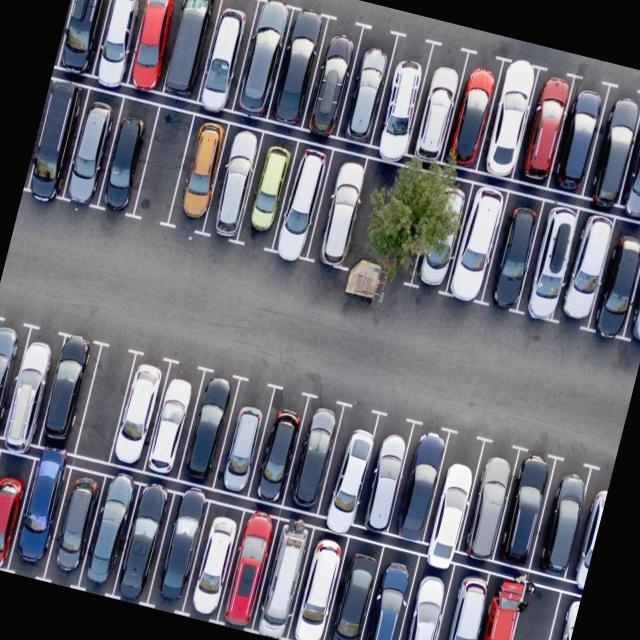car: (444, 179, 512, 305), (516, 196, 584, 321), (405, 170, 472, 296), (480, 188, 548, 312), (22, 75, 90, 199), (110, 478, 176, 604), (476, 54, 542, 180), (306, 148, 372, 274), (456, 438, 524, 560), (492, 447, 559, 570), (386, 420, 453, 543), (250, 516, 316, 640), (268, 138, 334, 262), (146, 488, 212, 612), (58, 84, 124, 208), (6, 455, 72, 579), (528, 456, 594, 579), (165, 111, 232, 232), (94, 94, 160, 216), (181, 498, 247, 620), (34, 333, 100, 455), (76, 472, 140, 596), (554, 206, 618, 330), (514, 64, 578, 188), (548, 74, 612, 198), (41, 466, 106, 588), (216, 508, 281, 630), (202, 120, 266, 242), (353, 411, 417, 533), (105, 351, 170, 471), (140, 360, 204, 480), (212, 377, 276, 497), (247, 386, 311, 506), (266, 7, 329, 128), (230, 0, 294, 119), (176, 368, 239, 488), (0, 326, 60, 452), (319, 404, 383, 522), (286, 525, 351, 640), (284, 394, 346, 514), (372, 34, 434, 154), (302, 16, 364, 136), (237, 130, 299, 249), (408, 42, 470, 161), (444, 50, 506, 168), (193, 0, 259, 110), (336, 27, 398, 144), (583, 81, 640, 207), (320, 533, 386, 640), (425, 432, 482, 554), (355, 541, 423, 640), (158, 0, 222, 103), (588, 214, 640, 338), (124, 0, 188, 94), (392, 549, 457, 640), (565, 464, 612, 584), (88, 0, 154, 85), (428, 560, 496, 640), (53, 0, 118, 76), (0, 445, 37, 570), (466, 572, 527, 640), (0, 312, 30, 437), (619, 91, 640, 216), (533, 586, 581, 640), (623, 219, 640, 344)
free: (130, 102, 196, 224), (71, 344, 137, 465), (497, 579, 563, 640)
